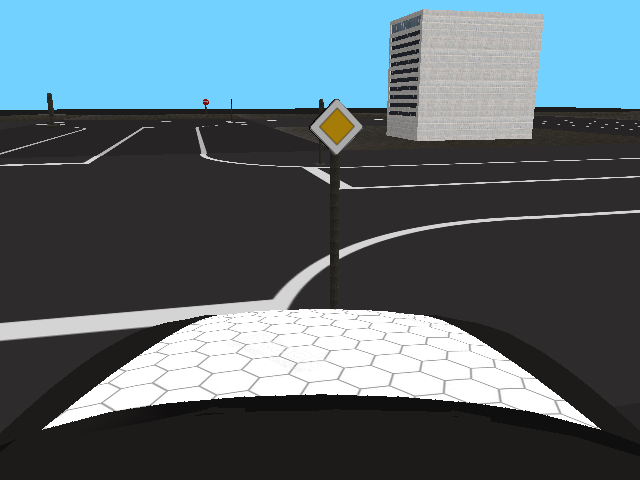yellow_light: (309, 98, 363, 154)
